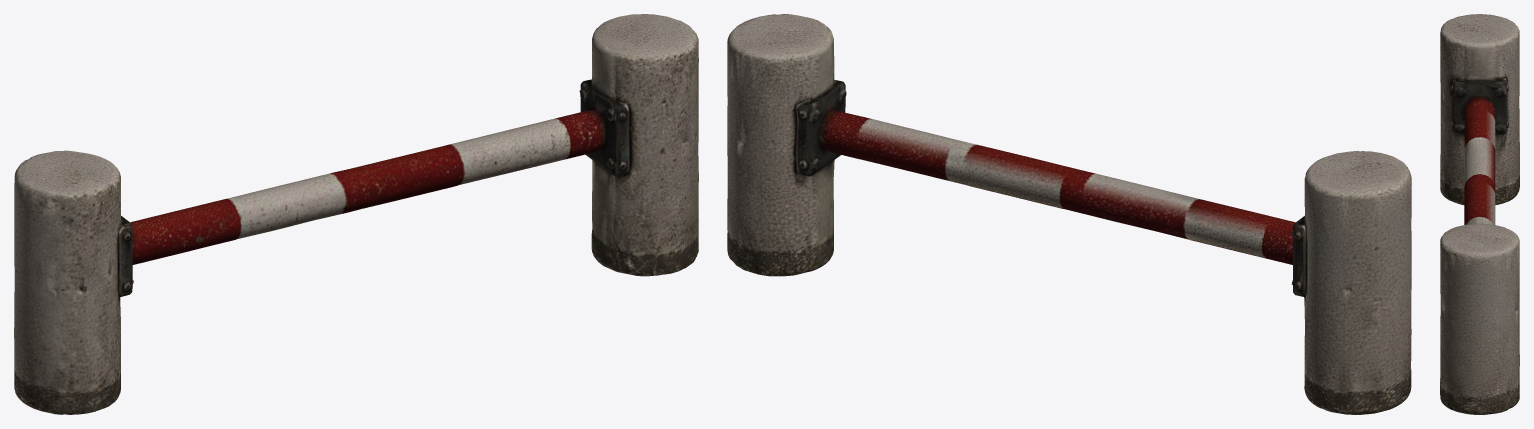
The model's file is veh-j-lowbar.glb.
The picture shows the model from 3 angles, left to right: view 1: azimuth 30°, elevation 25°; view 2: azimuth 150°, elevation 25°; view 3: azimuth 270°, elevation 25°; orthographic projection. The views are drawn at different scales.
Parts seen in each view (by area): view 1: tripo_node_e53ddbef-00b6-41c2-8a03-4cefbe3de29d; view 2: tripo_node_e53ddbef-00b6-41c2-8a03-4cefbe3de29d; view 3: tripo_node_e53ddbef-00b6-41c2-8a03-4cefbe3de29d.
Part boxes in pixels (x1,y1,x2,y2): tripo_node_e53ddbef-00b6-41c2-8a03-4cefbe3de29d: (14,14,698,414); tripo_node_e53ddbef-00b6-41c2-8a03-4cefbe3de29d: (727,14,1411,414); tripo_node_e53ddbef-00b6-41c2-8a03-4cefbe3de29d: (1440,14,1519,414).
Bounding box in the file's own units: 0.9796 × 0.3142 × 0.1378.
Materials: 1 (1 with a texture image).
